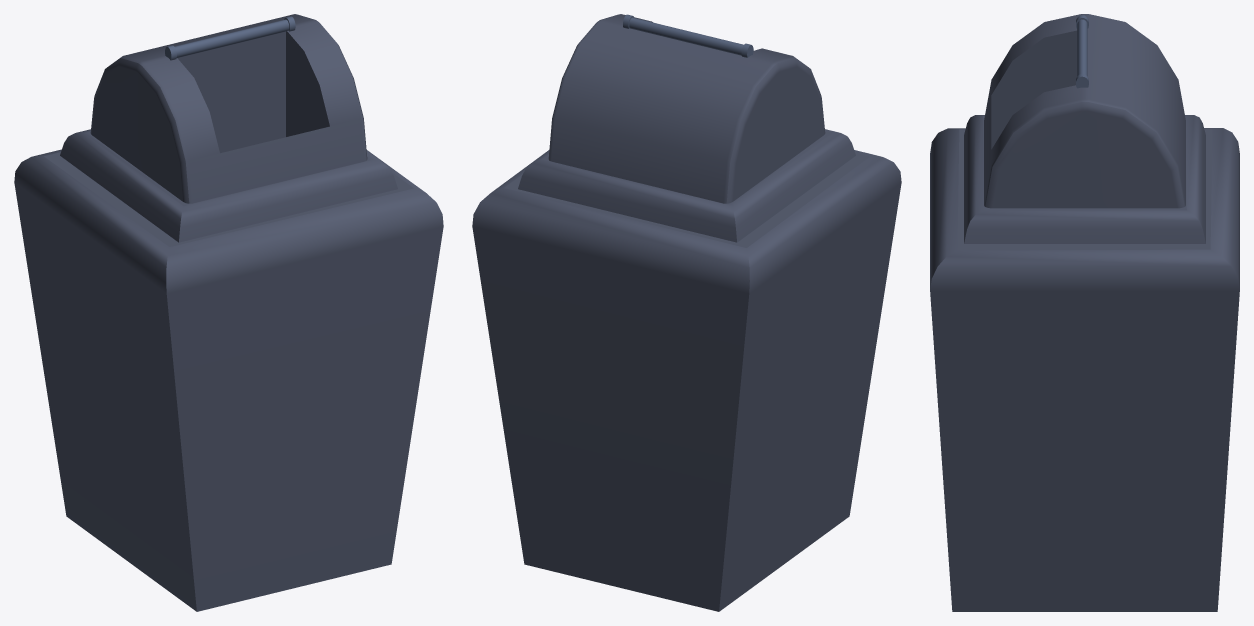
The model's file is tacho de basura.fbx.
The picture shows the model from 3 angles, left to right: view 1: azimuth 30°, elevation 25°; view 2: azimuth 150°, elevation 25°; view 3: azimuth 270°, elevation 25°; orthographic projection.
Visible parts, largest first — view 1: pCube2; view 2: pCube2; view 3: pCube2.
Boxes of the visible parts, x1,y1,x2,y2 form: pCube2: (14,14,443,611); pCube2: (472,14,901,611); pCube2: (930,14,1239,611).
Bounding box in the file's own units: 17.02 × 29.92 × 16.22.
